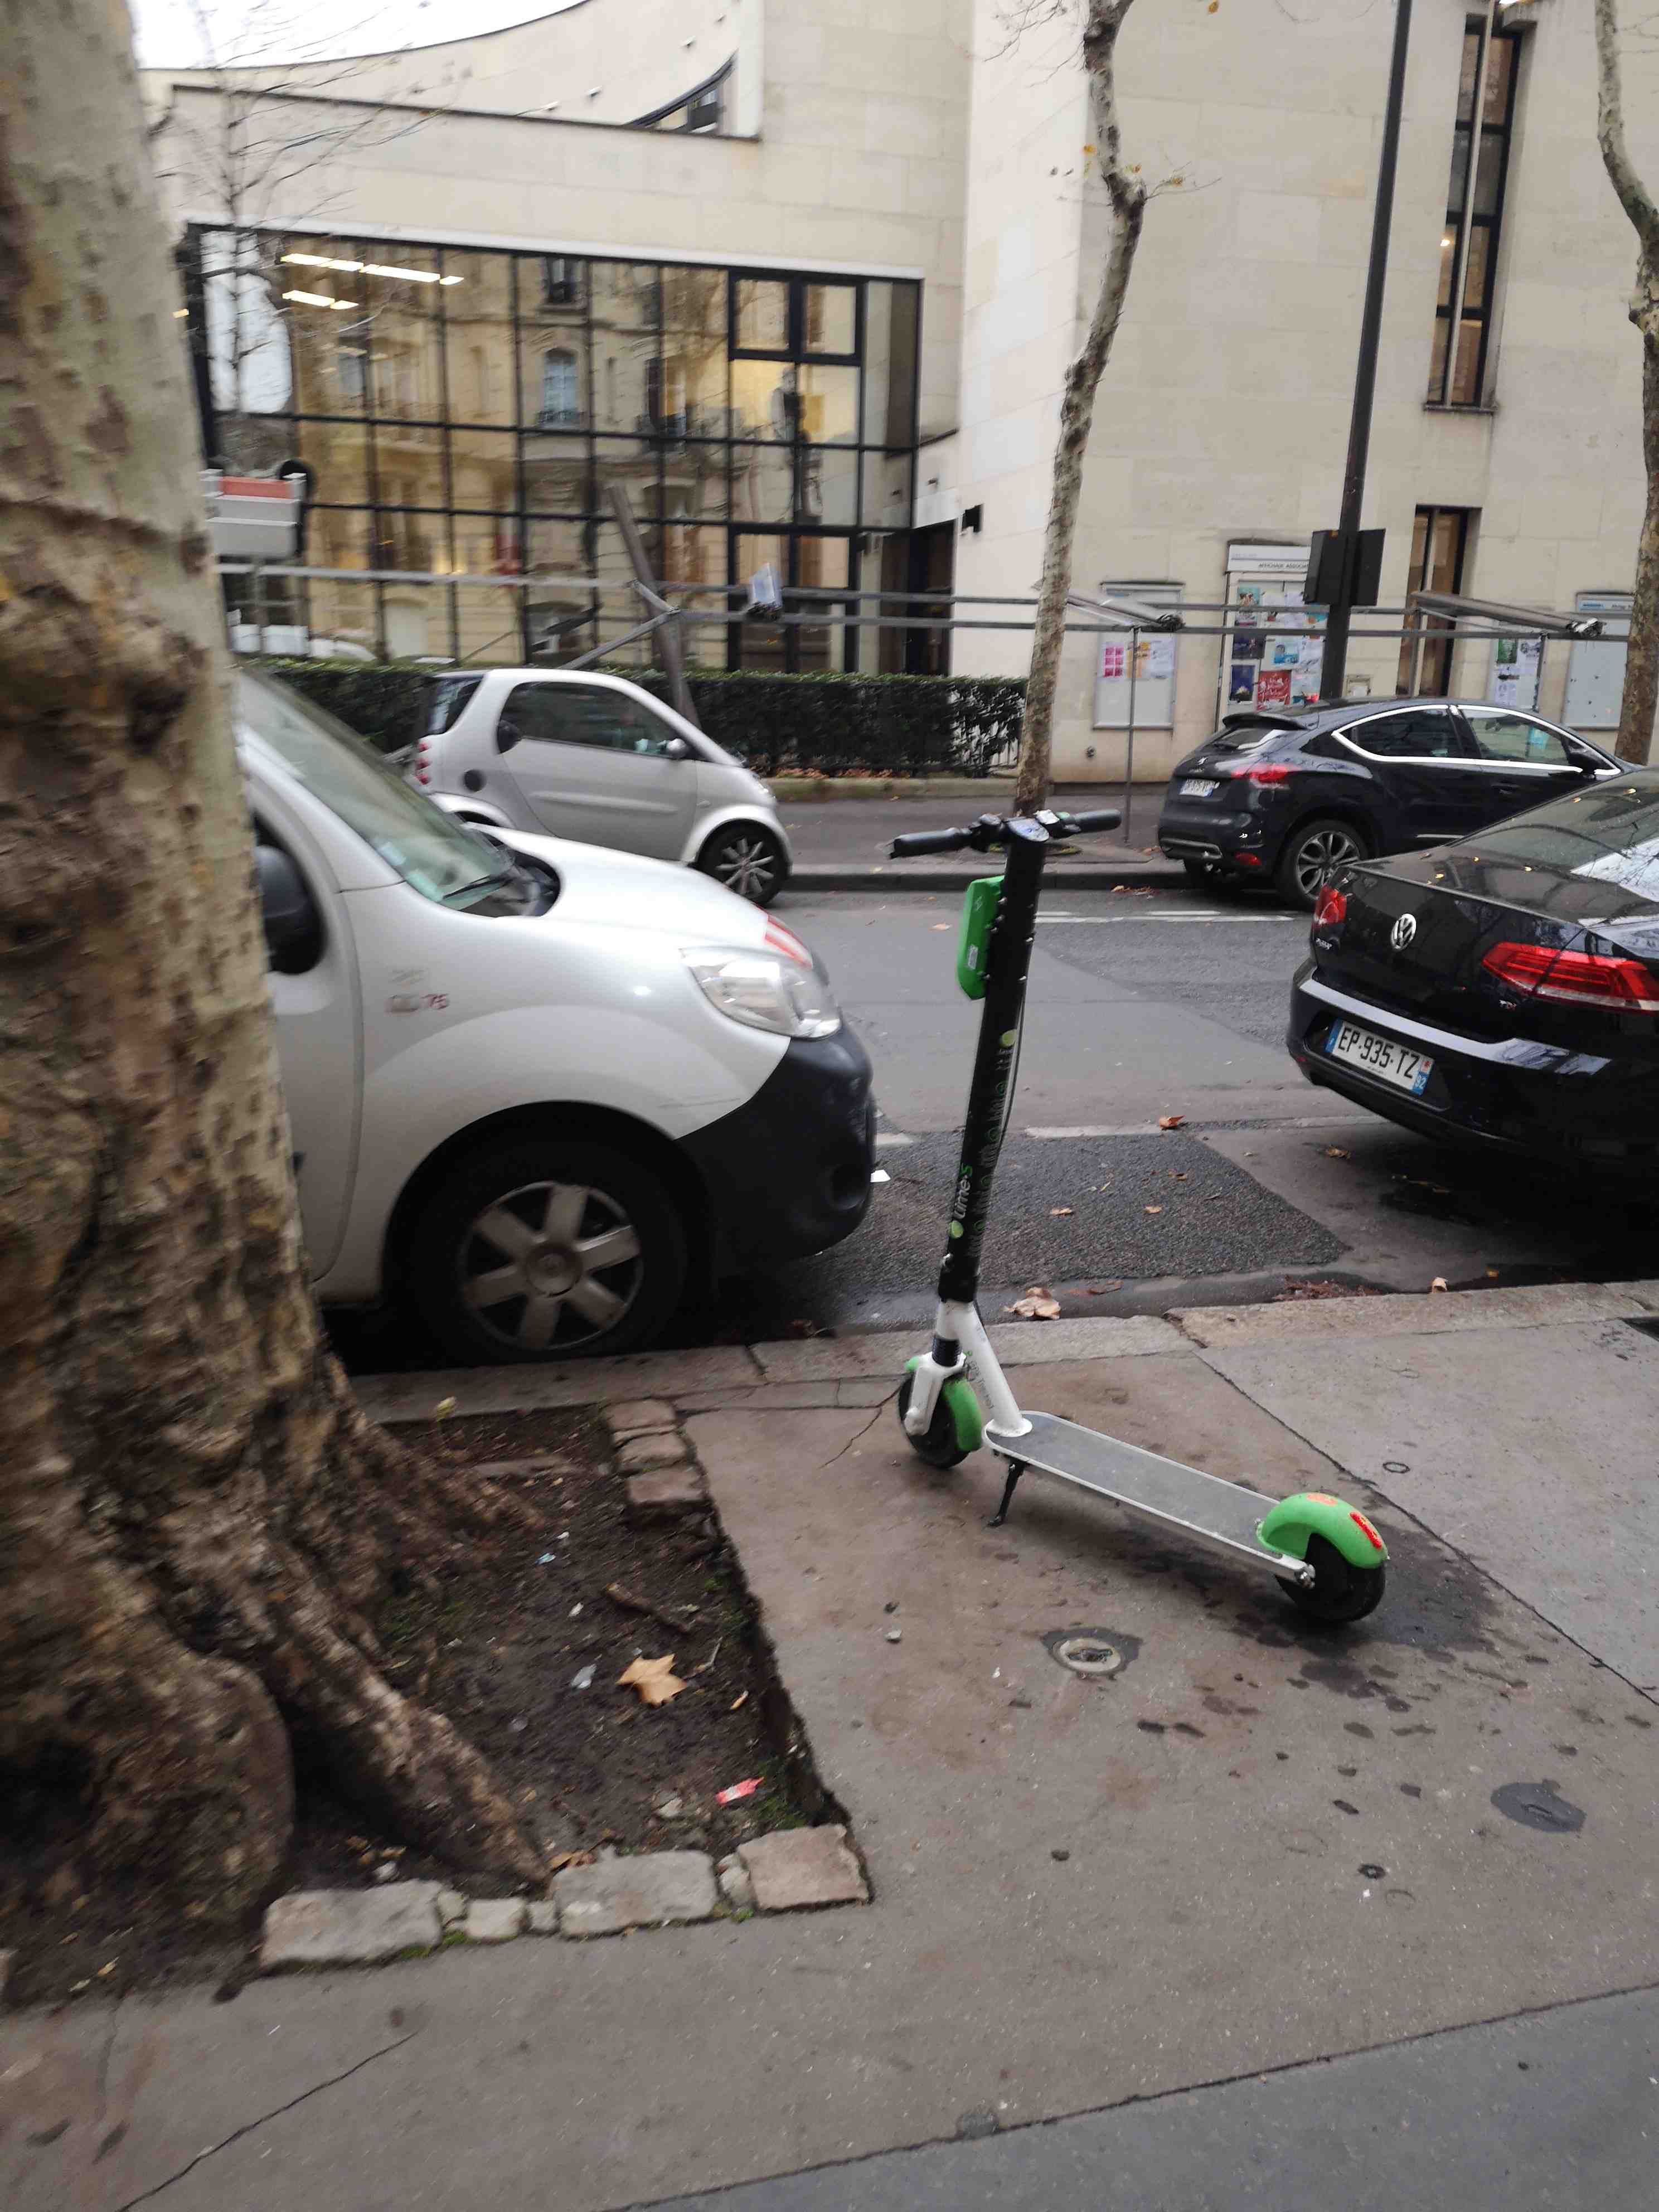scooter: (850, 796, 1406, 1632)
